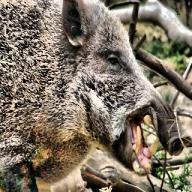boar: (0, 0, 190, 191)
